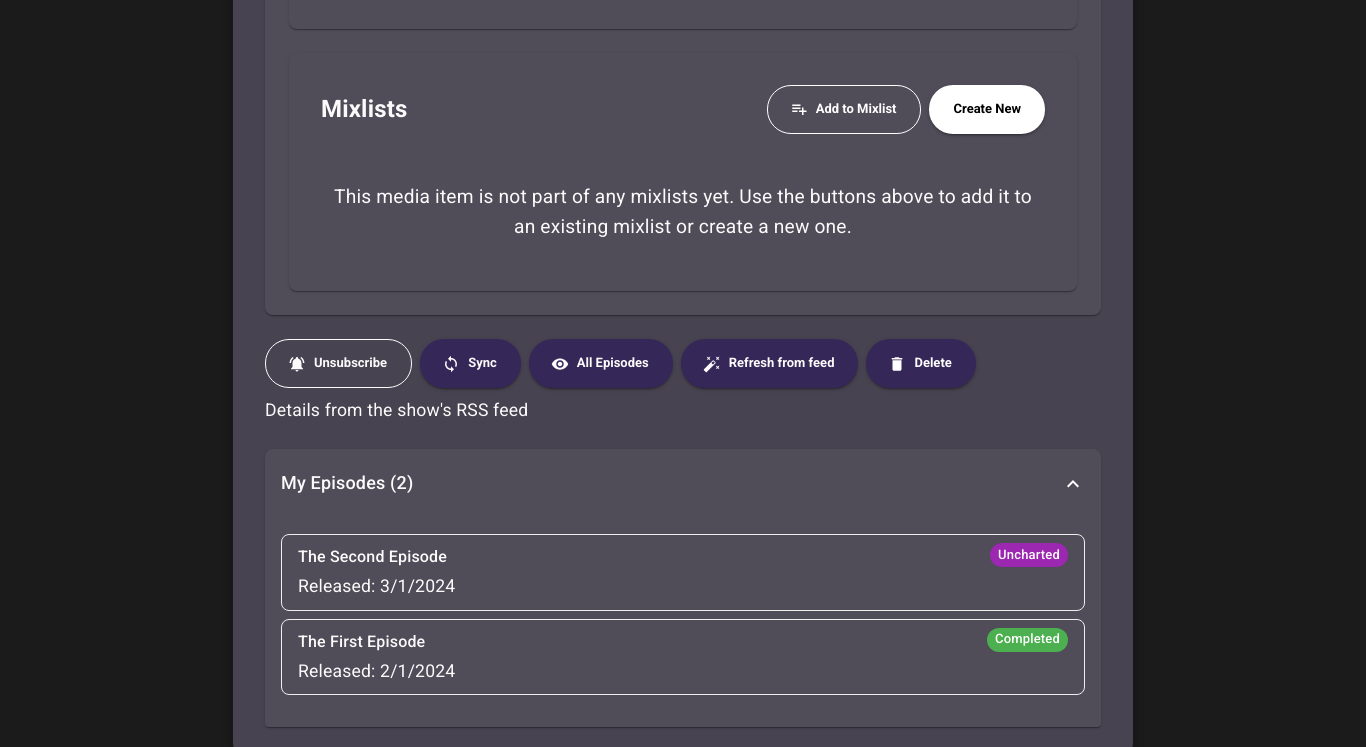
PodcastSeriesProfile › unsubscribes a subscribed series
The image size is (1366, 747).
(page scrolled)
Step 1. Click the button "Unsubscribe" → (339, 364), box [265,339,412,388]
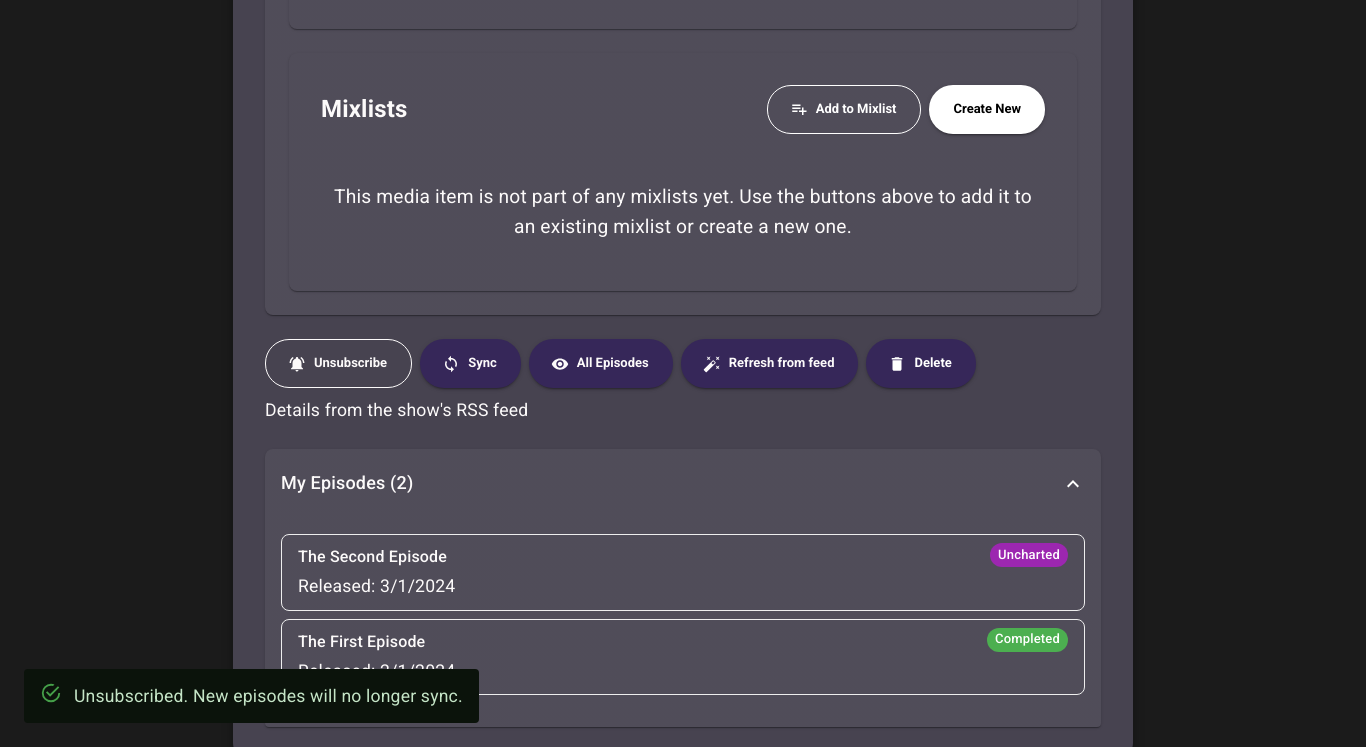
Now the text "Unsubscribed. New episodes will no longer sync." is shown, box [74,686,463,706]
